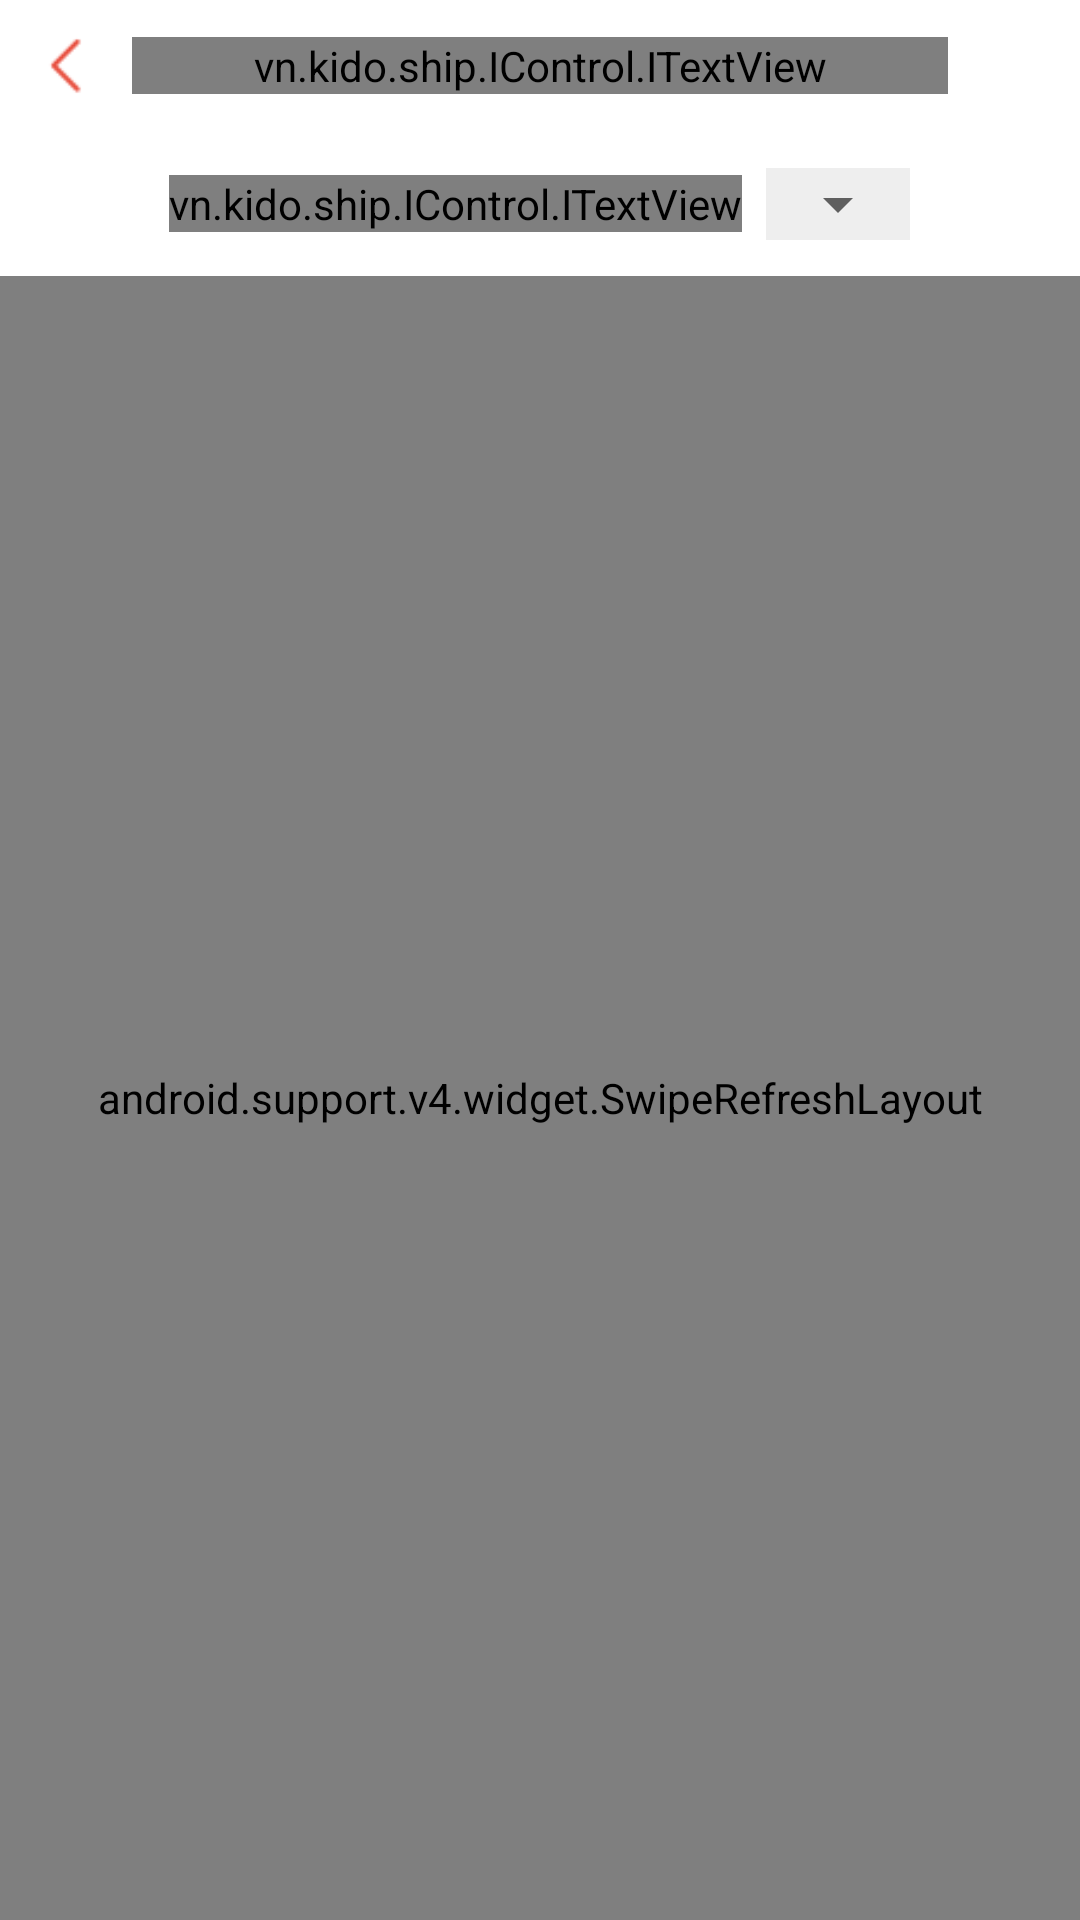

Icon bounding boxes for this 1080px x 1920px phone screenshot, format [x1,y1,x2,y2]:
back: [51,39,81,93]
